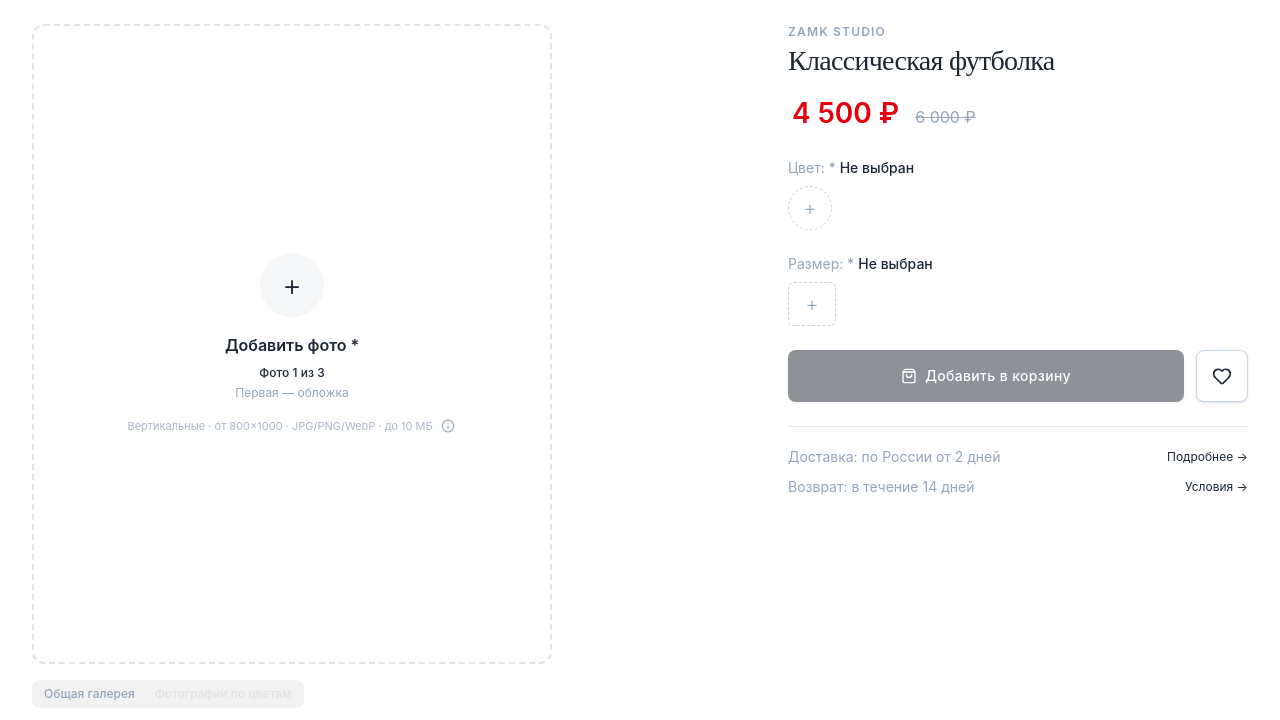
Test case: ProductStudioVisualWorkspace - In-Canvas Constructor › B. Direct-Add Affordances and Controls in Real PDP › 12. Renders + color button and opens canonical color popover
Step 1. Click the button named "Добавить цвет" → click(810, 208), box [788,186,832,230]
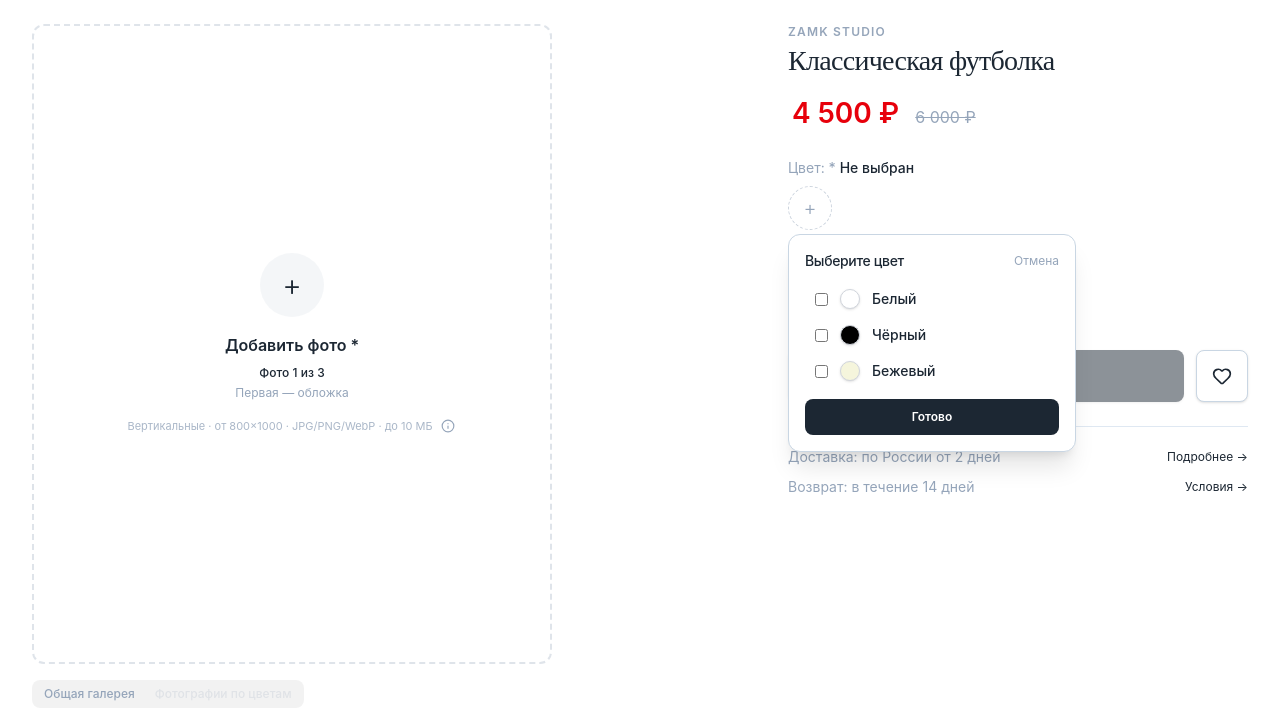
Expected: the heading "Выберите цвет" is shown, [805,251,904,271]
Expected: the text "Чёрный" is shown, [872,325,926,345]
Expected: the text "Белый" is shown, [872,289,916,309]
